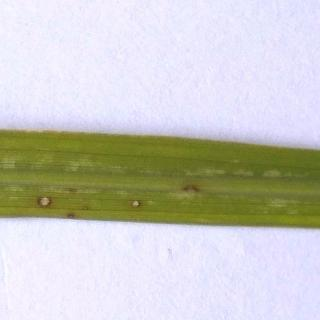Blast: (15, 172, 96, 219), (165, 170, 222, 210)
